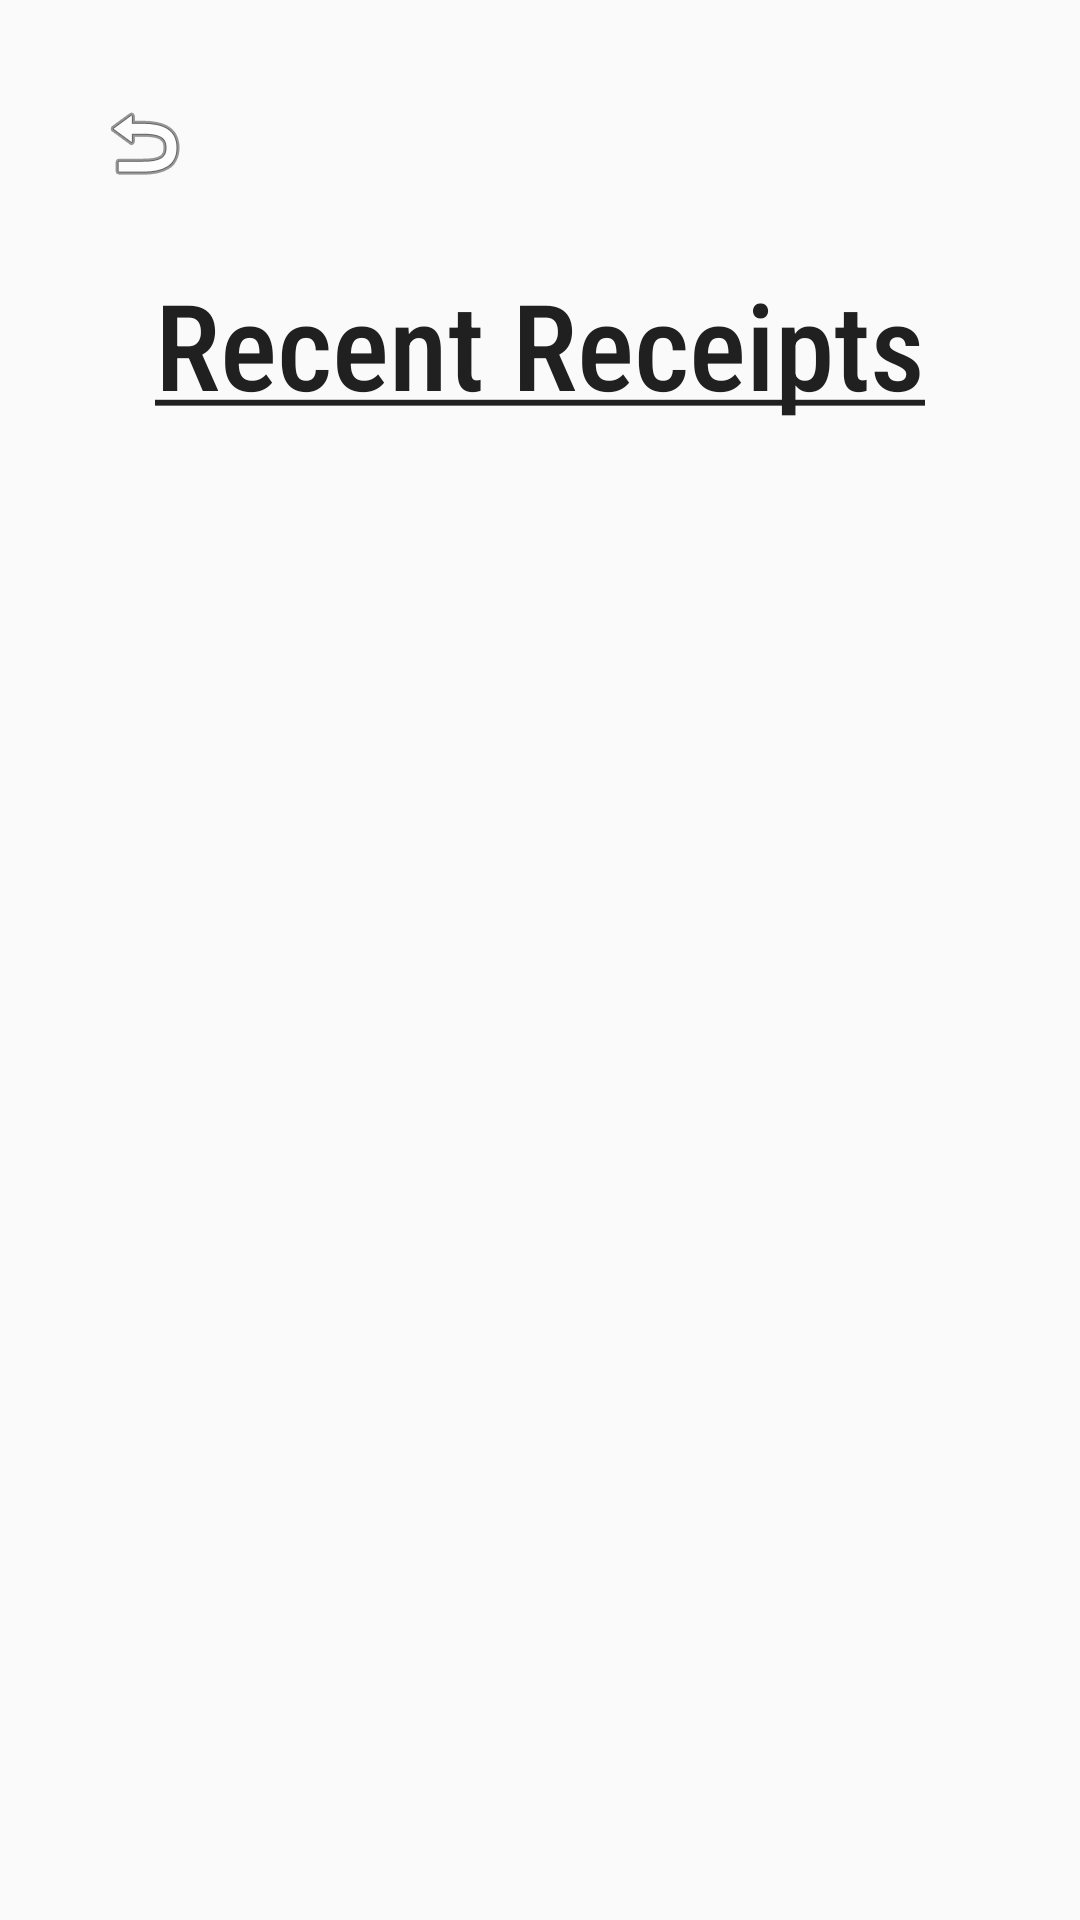

Named icons in this screenshot (1080w x 1920h) and their bounding boxes, (x1, y1, x2, y2):
revert: (111, 112, 180, 175)
